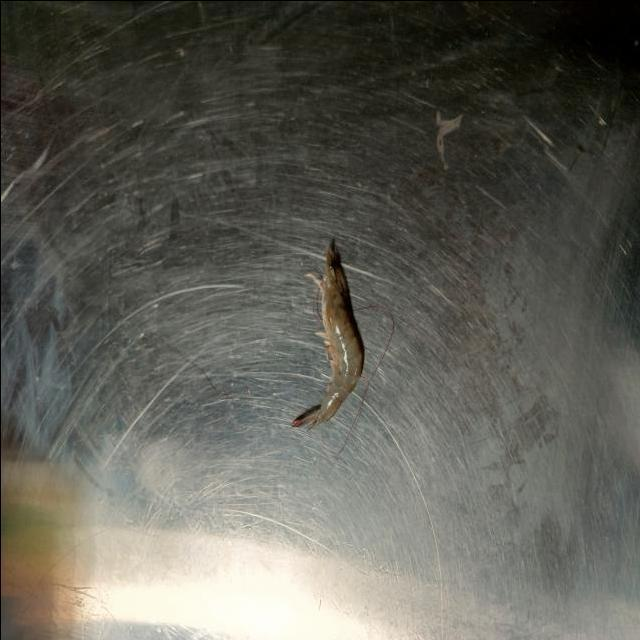shrimp: (291, 240, 364, 428)
